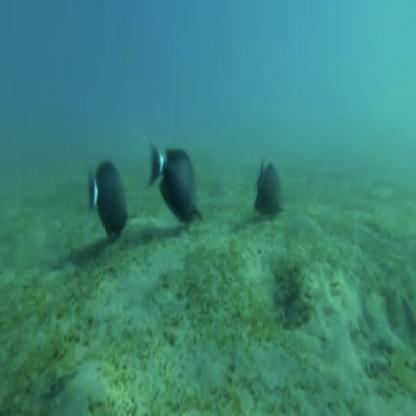surgeon: (151, 141, 207, 234), (88, 155, 129, 242), (251, 145, 290, 221)
